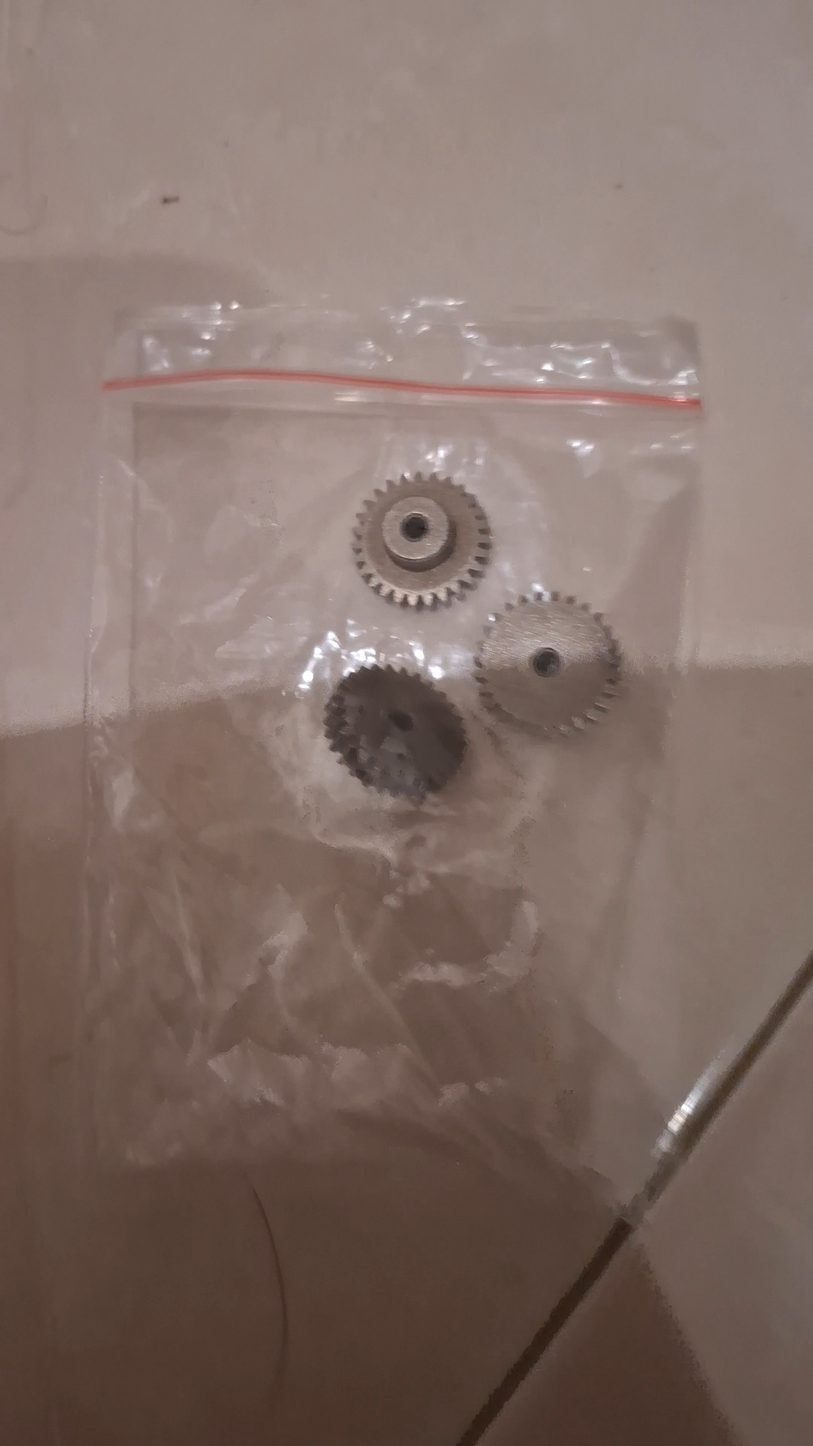spur gear: (469, 592, 623, 741), (321, 660, 469, 800), (348, 472, 493, 609)
